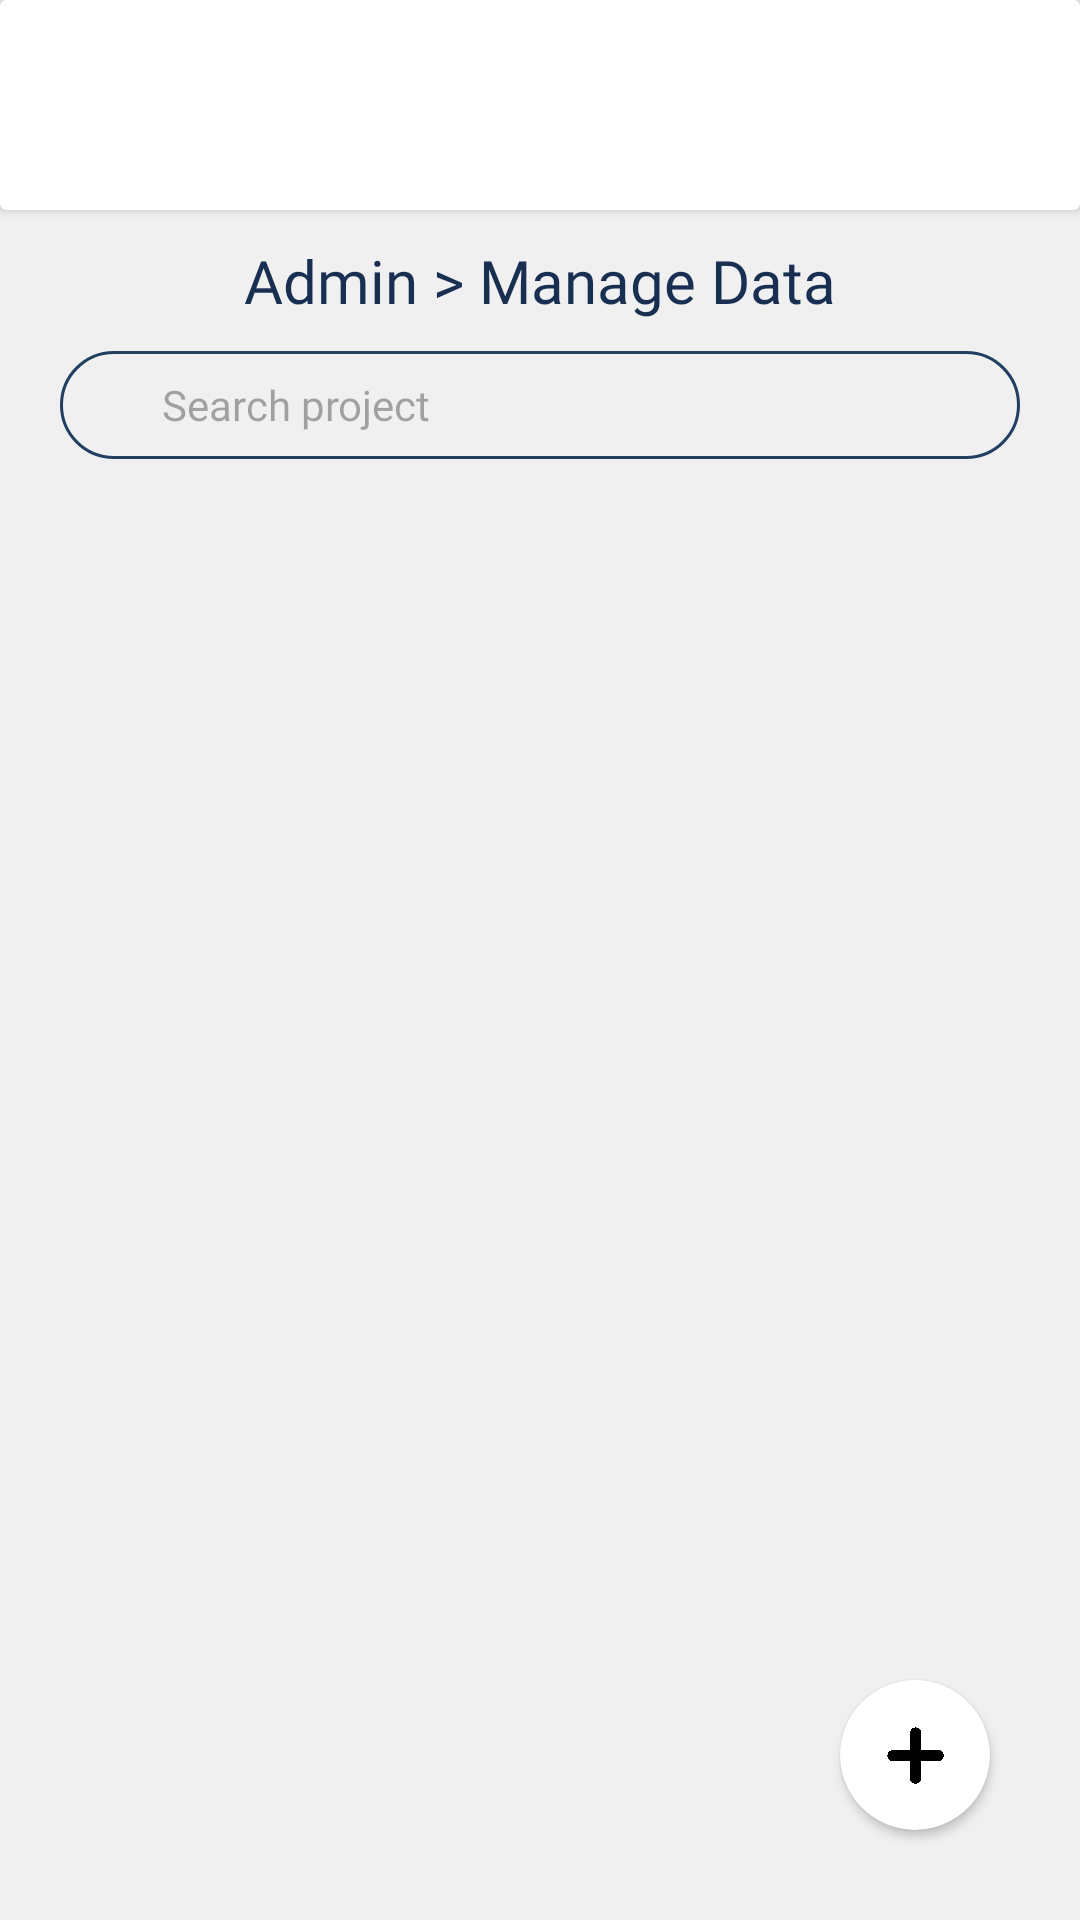

Icons on this 1080×1920 Android screen, each with the point to tap as [x,y]:
add: [915,1755]
